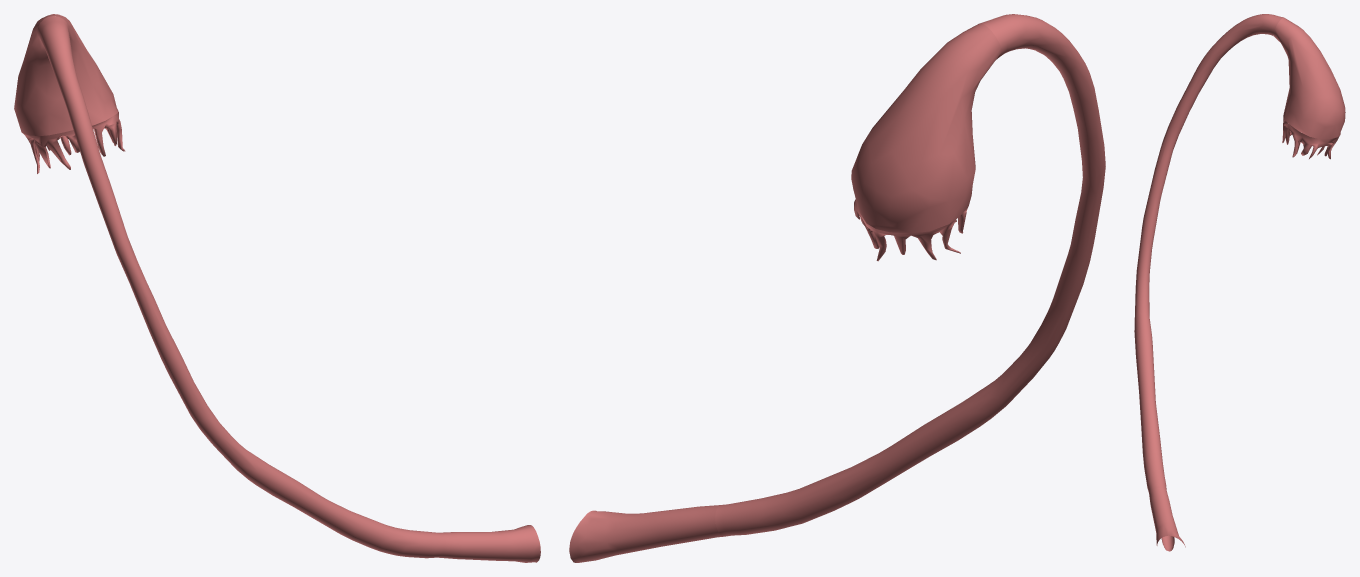
Rendered from fallopian_r.glb.
The picture shows the model from 3 angles, left to right: view 1: azimuth 30°, elevation 25°; view 2: azimuth 150°, elevation 25°; view 3: azimuth 270°, elevation 25°; orthographic projection. The views are drawn at different scales.
Parts seen in each view (by area): view 1: VH_F_ampulla_of_uterine_tube_R, VH_F_uterine_tube_infundibulum_R, VH_F_isthmus_of_fallopian_tube_R, VH_F_fibria_of_uterine_tube_R; view 2: VH_F_ampulla_of_uterine_tube_R, VH_F_uterine_tube_infundibulum_R, VH_F_isthmus_of_fallopian_tube_R, VH_F_fibria_of_uterine_tube_R; view 3: VH_F_ampulla_of_uterine_tube_R, VH_F_uterine_tube_infundibulum_R, VH_F_isthmus_of_fallopian_tube_R, VH_F_fibria_of_uterine_tube_R.
Part boxes in pixels (x1,y1,x2,y2): VH_F_ampulla_of_uterine_tube_R: (37,16,450,558); VH_F_uterine_tube_infundibulum_R: (14,14,118,135); VH_F_isthmus_of_fallopian_tube_R: (442,525,540,562); VH_F_fibria_of_uterine_tube_R: (22,112,125,173); VH_F_ampulla_of_uterine_tube_R: (715,14,1105,536); VH_F_uterine_tube_infundibulum_R: (851,23,1001,233); VH_F_isthmus_of_fallopian_tube_R: (569,505,722,562); VH_F_fibria_of_uterine_tube_R: (854,199,967,261); VH_F_ampulla_of_uterine_tube_R: (1134,14,1283,493); VH_F_uterine_tube_infundibulum_R: (1273,17,1345,139); VH_F_isthmus_of_fallopian_tube_R: (1149,488,1185,551); VH_F_fibria_of_uterine_tube_R: (1282,117,1339,159).
Size of the model in its own units: 0.0344 by 0.0446 by 0.0209.
